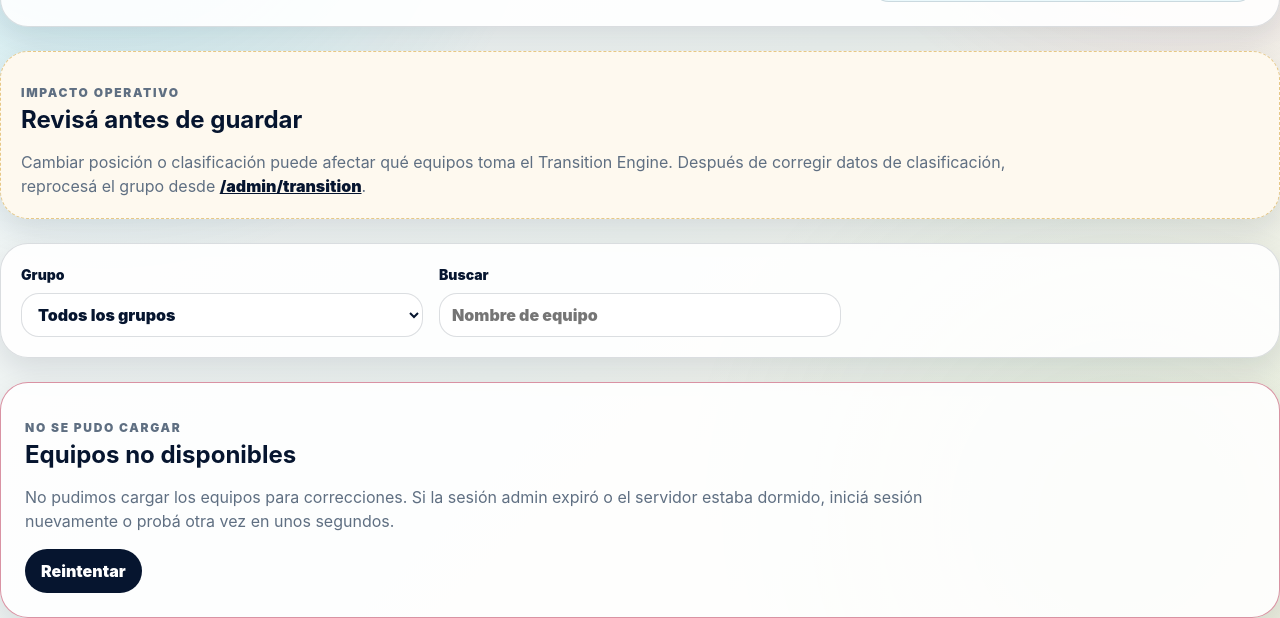
Test: AdminTeamCorrectionsPage › renders a controlled error state and can retry
(page scrolled)
expect the message shows "Equipos no disponibles": met, box [25, 440, 296, 469]
What coordinates should you click on to do the following:
click the button "Reintentar"
I would click on:
 (83, 571)
Its box is [25, 549, 142, 593].
(page scrolled)
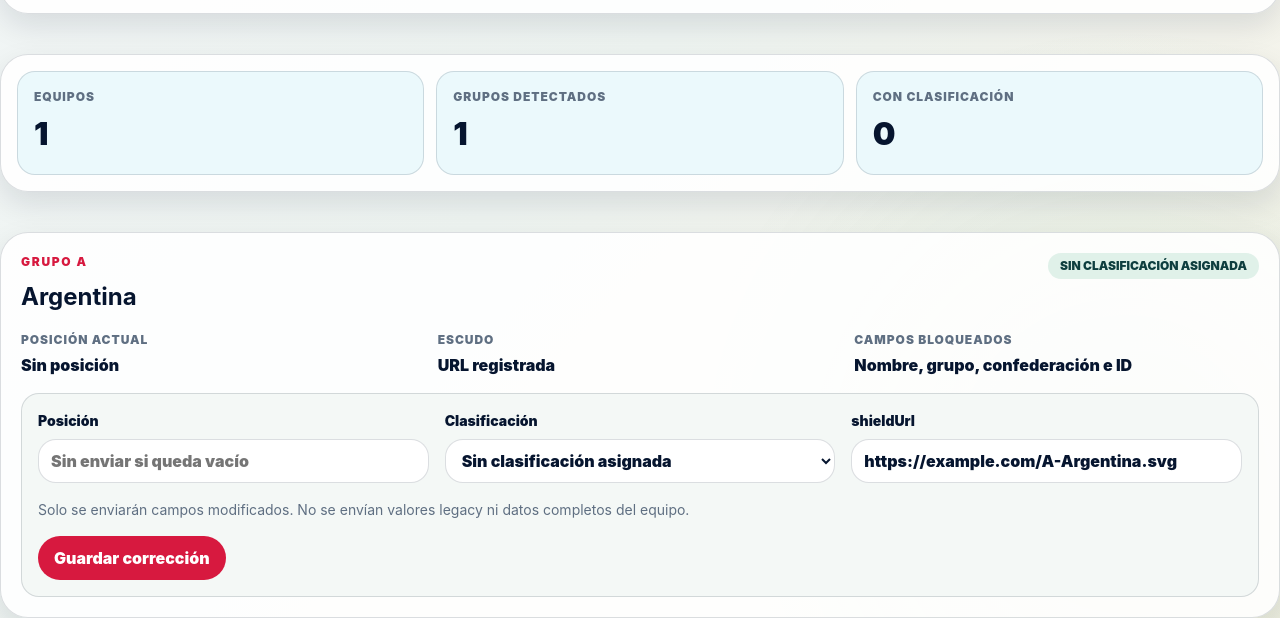
expect the heading "Argentina" is shown: met, box [21, 279, 137, 315]
